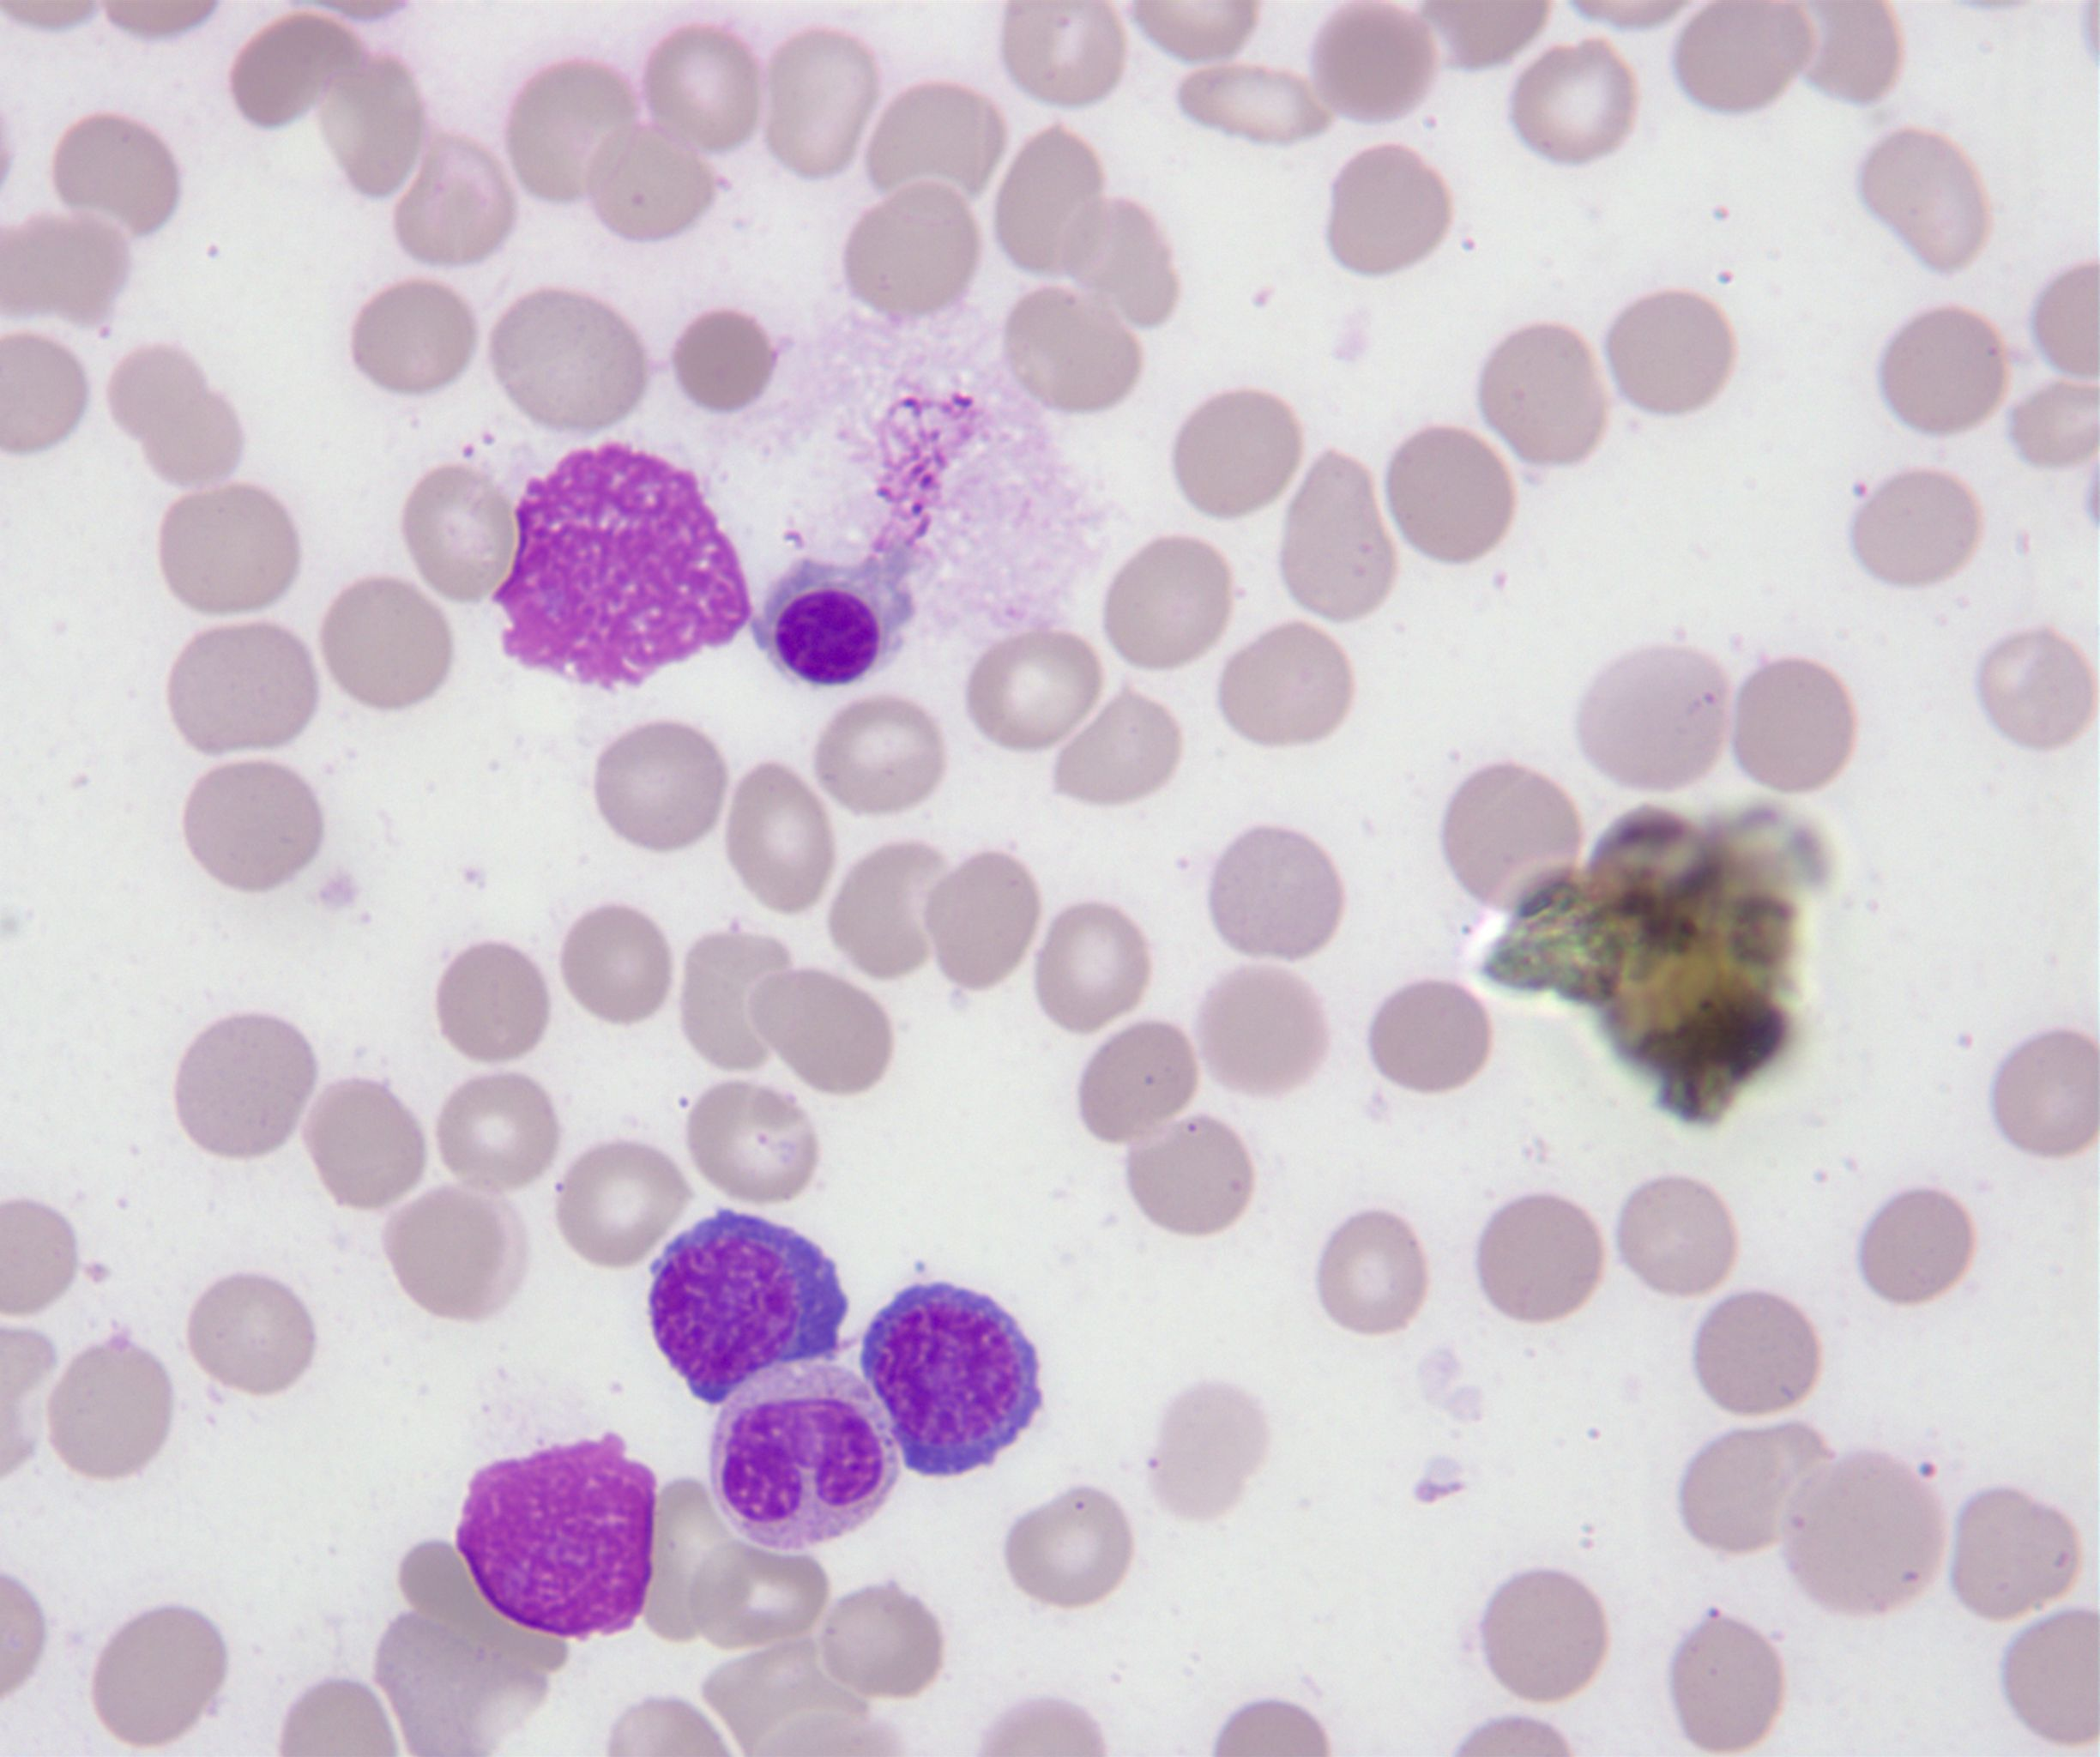23: (652, 1214, 846, 1401), (860, 1284, 1040, 1476)
24: (748, 543, 914, 686)
5: (708, 1356, 900, 1549)
x: (492, 441, 752, 687), (455, 1432, 659, 1638)
